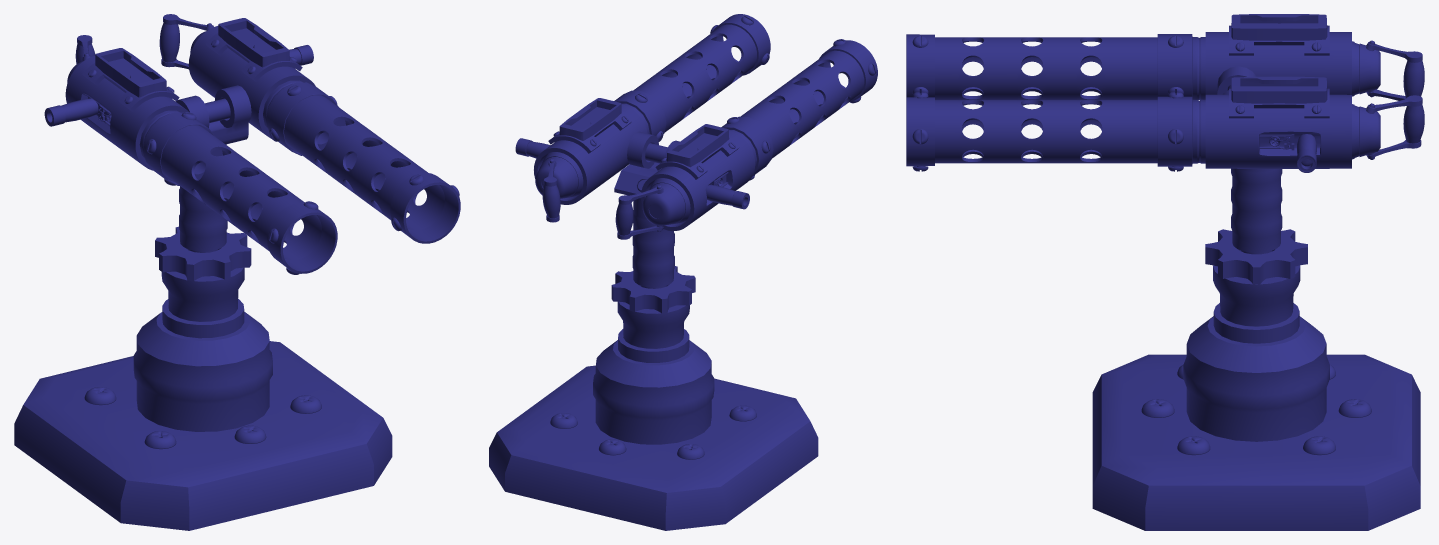
File: BallTurret.fbx
3 renders of one model, left to right at view 1: azimuth 30°, elevation 25°; view 2: azimuth 150°, elevation 25°; view 3: azimuth 270°, elevation 25°, orthographic. The views are drawn at different scales.
Parts seen in each view (by area): view 1: BOT1_LOW, TOP12_LOW, BOT2_LOW, TOP4_LOW, TOP15_LOW, MID2_LOW, TOP13_LOW, TOP10_LOW, MID1_LOW, BOT_BOLT_LOW, TOP11_LOW, TOP1_LOW (+3 smaller); view 2: BOT1_LOW, BOT2_LOW, TOP12_LOW, TOP4_LOW, MID2_LOW, TOP15_LOW, TOP3_LOW, MID1_LOW, TOP10_LOW, TOP13_LOW, BOT_BOLT_LOW, TOP1_LOW (+4 smaller); view 3: BOT1_LOW, TOP12_LOW, BOT2_LOW, TOP4_LOW, TOP15_LOW, TOP10_LOW, MID2_LOW, TOP13_LOW, MID1_LOW, TOP3_LOW, BOT_BOLT_LOW, TOP1_LOW (+2 smaller).
Boxes of the visible parts, x1,y1,x2,y2 form: BOT1_LOW: [14, 341, 392, 530]; TOP12_LOW: [160, 95, 447, 263]; BOT2_LOW: [133, 267, 272, 431]; TOP4_LOW: [65, 26, 315, 170]; TOP15_LOW: [82, 18, 302, 111]; MID2_LOW: [175, 85, 251, 252]; TOP13_LOW: [267, 172, 460, 273]; TOP10_LOW: [139, 80, 338, 185]; MID1_LOW: [155, 226, 251, 280]; BOT_BOLT_LOW: [84, 387, 321, 449]; TOP11_LOW: [146, 85, 459, 274]; TOP1_LOW: [75, 23, 179, 64]; BOT1_LOW: [489, 365, 818, 530]; BOT2_LOW: [593, 301, 714, 444]; TOP12_LOW: [633, 24, 864, 158]; TOP4_LOW: [534, 104, 755, 230]; MID2_LOW: [614, 131, 679, 288]; TOP15_LOW: [548, 98, 739, 179]; TOP3_LOW: [535, 152, 690, 231]; MID1_LOW: [611, 266, 695, 313]; TOP10_LOW: [614, 90, 773, 176]; TOP13_LOW: [712, 14, 877, 101]; BOT_BOLT_LOW: [550, 405, 756, 459]; TOP1_LOW: [542, 184, 633, 235]; BOT1_LOW: [1092, 354, 1420, 530]; TOP12_LOW: [935, 37, 1157, 163]; BOT2_LOW: [1183, 265, 1329, 441]; TOP4_LOW: [1205, 32, 1351, 168]; TOP15_LOW: [1229, 14, 1329, 118]; TOP10_LOW: [1157, 34, 1205, 166]; MID2_LOW: [1217, 66, 1282, 254]; TOP13_LOW: [906, 34, 934, 166]; MID1_LOW: [1205, 229, 1307, 284]; TOP3_LOW: [1352, 40, 1380, 159]; BOT_BOLT_LOW: [1141, 364, 1371, 455]; TOP1_LOW: [1403, 60, 1424, 143].
Bounding box in the file's own units: 24.11 × 33.18 × 38.13.
